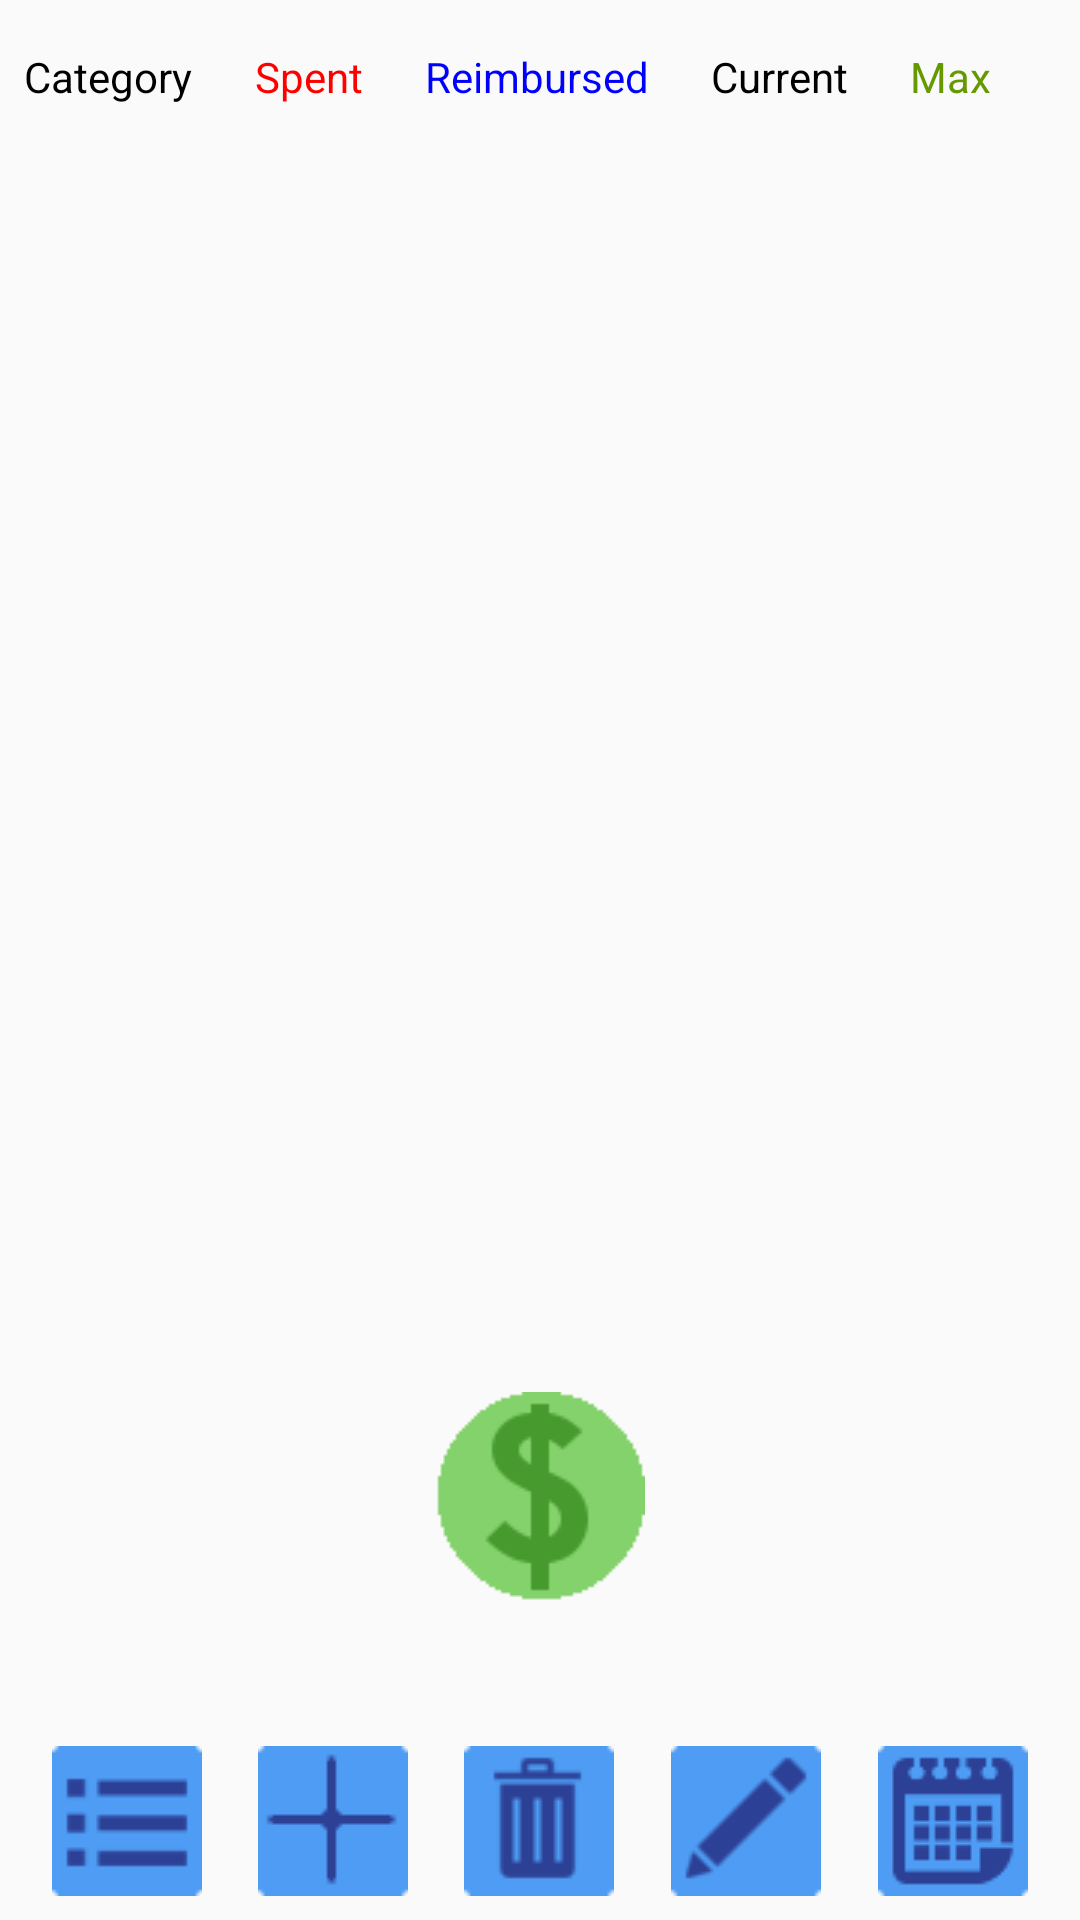

Where icons sit on this 1080x1920 app screen, as box=[x1, y1, x2, y2]:
add: box=[258, 1746, 408, 1896]
calendar: box=[878, 1746, 1028, 1896]
edit: box=[671, 1746, 821, 1896]
trash: box=[464, 1746, 614, 1896]
view: box=[52, 1746, 202, 1896]
